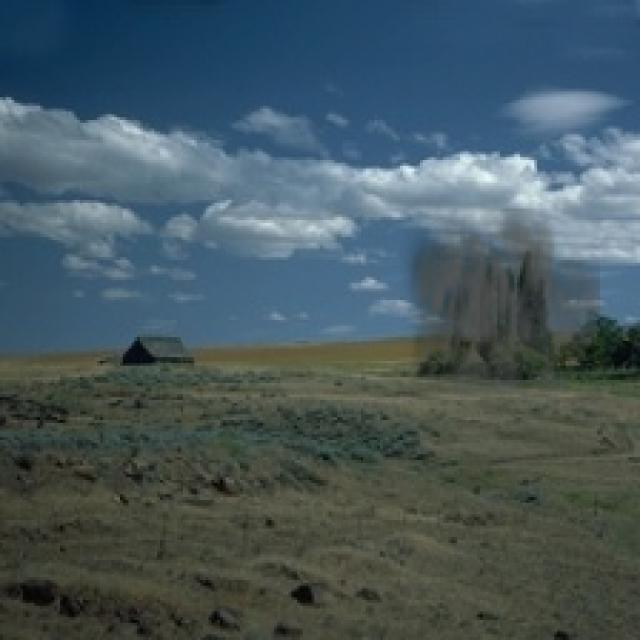Smoke: (397, 209, 600, 437)
